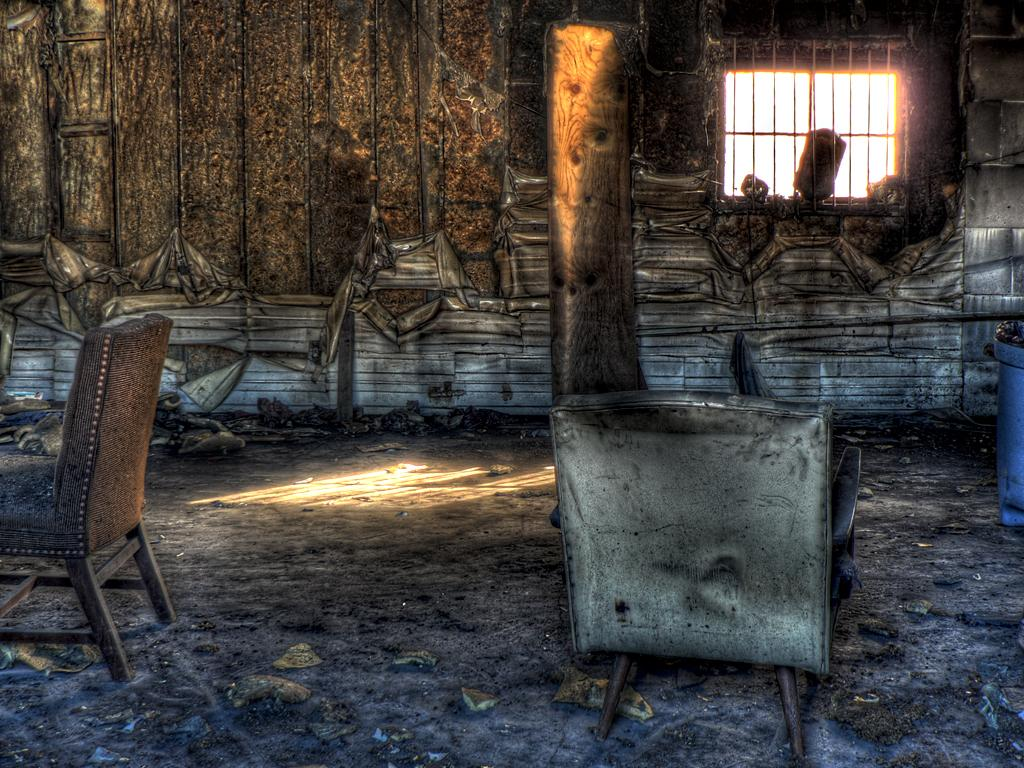Chair: (548, 388, 861, 759), (0, 311, 177, 682)
